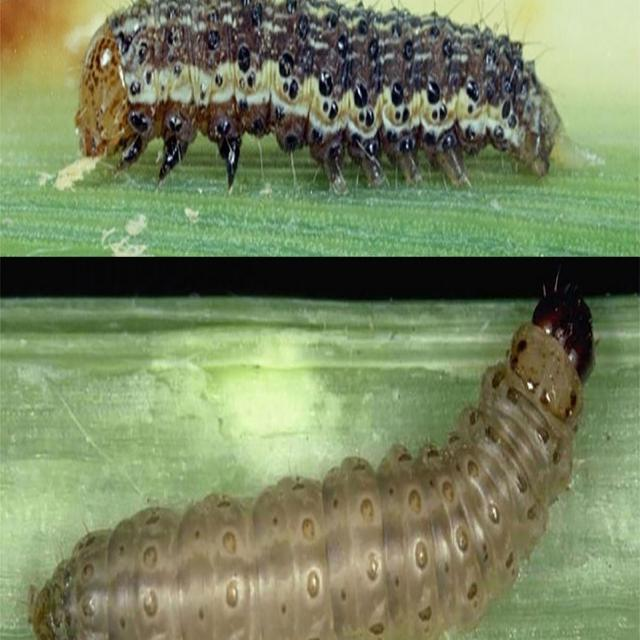cornborer-Larva-: (33, 274, 613, 639)
